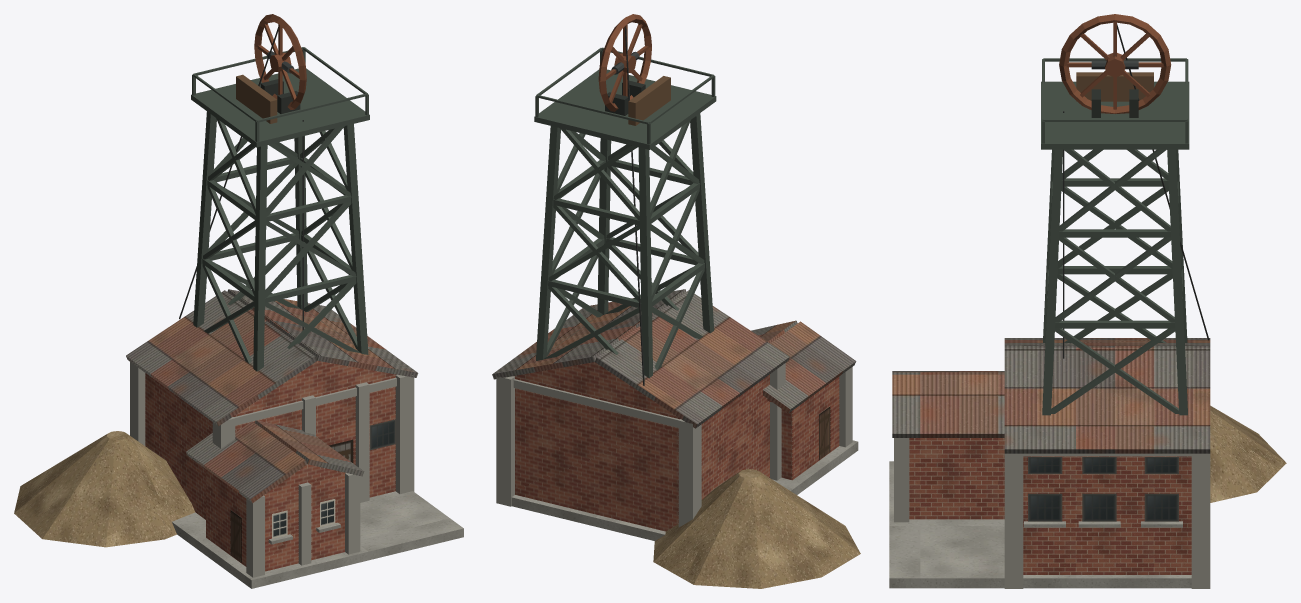
The model's file is mine.glb.
The picture shows the model from 3 angles, left to right: view 1: azimuth 30°, elevation 25°; view 2: azimuth 150°, elevation 25°; view 3: azimuth 270°, elevation 25°; orthographic projection. The views are drawn at different scales.
Parts seen in each view (by area): view 1: terril, recette_toit_pan_arriere, recette, chevalement, socle, annexe, chaine (×4), plateforme, chevalement_croisillon (×8), annexe_toit_pan_arriere, recette_toit_pan_avant, recette_toit_pignon_b (+8 smaller); view 2: recette, terril, recette_toit_pan_arriere, chevalement, chevalement_croisillon (×12), chaine (×4), plateforme, annexe_toit_pan_arriere, recette_toit_pan_avant, annexe, chevalement_entretoise (×6), socle (+7 smaller); view 3: recette_toit_pan_avant, recette, socle, chevalement_croisillon (×10), annexe, annexe_toit_pan_avant, plateforme, chaine (×3), chevalement, fenetre (×6), terril, chevalement_entretoise (×4) (+4 smaller).
Boxes of the visible parts, x1,y1,x2,y2 form: terril: (14,431,194,547); recette_toit_pan_arriere: (126,290,317,426); recette: (145,373,395,519); chevalement: (193,111,368,371); socle: (172,491,463,588); annexe: (206,469,344,571); chaine (×4): (130,362,414,577); plateforme: (191,68,369,147); chevalement_croisillon (×8): (202,118,357,363); annexe_toit_pan_arriere: (186,421,307,502); recette_toit_pan_avant: (227,289,418,377); recette_toit_pignon_b: (238,361,396,413); recette: (515,374,769,531); terril: (653,469,860,588); recette_toit_pan_arriere: (595,290,789,428); chevalement: (536,113,714,377); chevalement_croisillon (×12): (544,120,704,370); chaine (×4): (496,363,852,527); plateforme: (534,69,716,149); annexe_toit_pan_arriere: (763,321,856,413); recette_toit_pan_avant: (492,289,686,379); annexe: (781,377,839,480); chevalement_entretoise (×6): (548,160,704,308); socle: (511,440,858,540); recette_toit_pan_avant: (1004,347,1210,453); recette: (1023,456,1191,574); socle: (889,461,1191,588); chevalement_croisillon (×10): (1051,149,1179,413); annexe: (909,438,1004,519); annexe_toit_pan_avant: (892,374,1004,437); plateforme: (1041,81,1189,149); chaine (×3): (894,438,1210,588); chevalement: (1042,149,1187,415); fenetre (×6): (1028,457,1178,521); terril: (1210,405,1286,502); chevalement_entretoise (×4): (1055,178,1175,328).
Bounding box in the file's own units: 2.71 × 3.74 × 2.55.
Materials: 15 (8 with a texture image).
